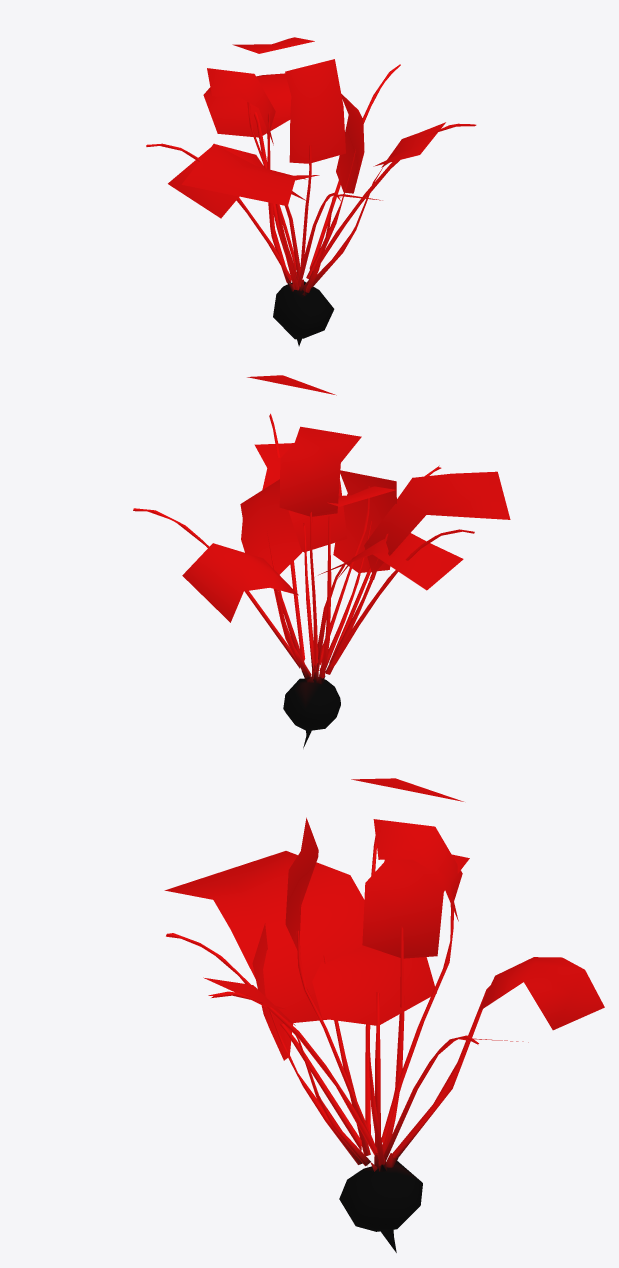
File: SM_Beet_A.glb
3 views of the same model, one above another, from view 1: azimuth 30°, elevation 25°; view 2: azimuth 150°, elevation 25°; view 3: azimuth 270°, elevation 25° (orthographic). The views are drawn at different scales.
Parts seen in each view (by area): view 1: SM_Beet_A; view 2: SM_Beet_A; view 3: SM_Beet_A.
Part boxes in pixels (x1,y1,x2,y2): SM_Beet_A: (146, 37, 476, 346); SM_Beet_A: (133, 375, 510, 748); SM_Beet_A: (164, 778, 604, 1252).
Bounding box in the file's own units: 2.11 × 1.23 × 1.63.
